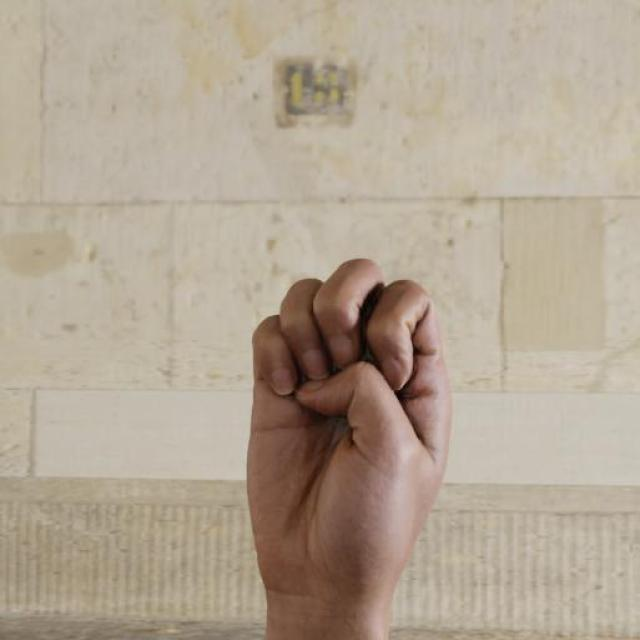E: (242, 255, 458, 601)
